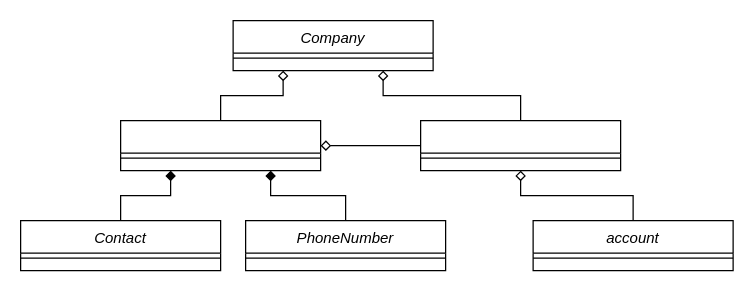
Some shapes in this 754 by 291 pixel diagram are drawn without their labels. The box of each missing label's shape, as (x1, y1, x2, y2) in pixels:
Customer: (119, 119, 321, 171)
Record: (419, 119, 621, 171)
